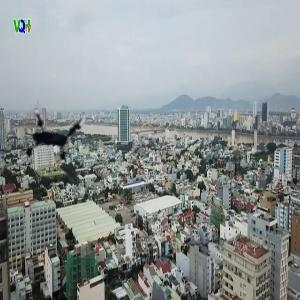drone: (4, 86, 97, 179)
